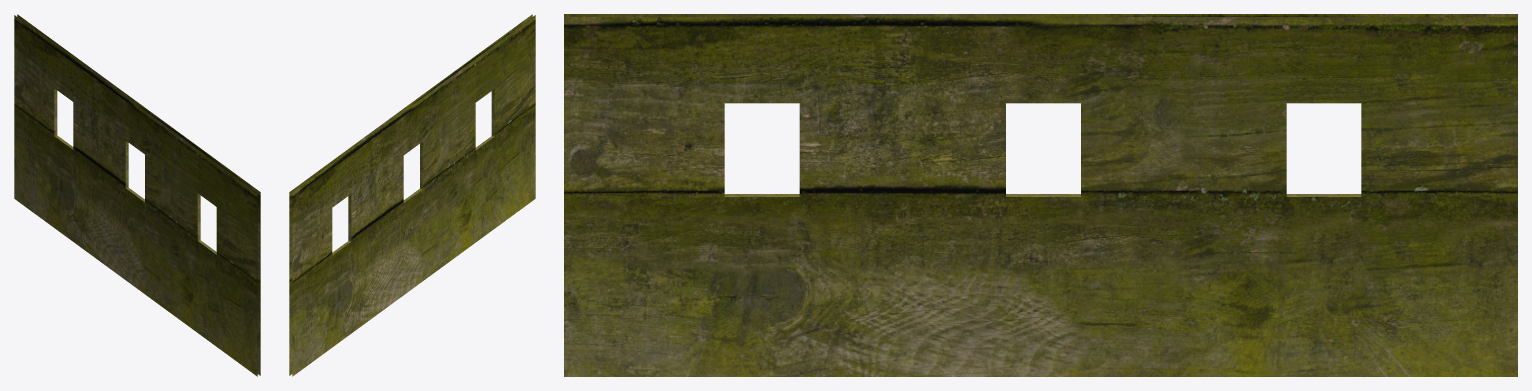
File: SM_Side_Wall.fbx
3 renders of one model, left to right at view 1: azimuth 30°, elevation 25°; view 2: azimuth 150°, elevation 25°; view 3: azimuth 270°, elevation 25°, orthographic. The views are drawn at different scales.
Parts seen in each view (by area): view 1: SM_Side_Wall; view 2: SM_Side_Wall; view 3: SM_Side_Wall.
Part boxes in pixels (left/top/right/bottom): SM_Side_Wall: left=14, top=14, right=260, bottom=376; SM_Side_Wall: left=289, top=14, right=535, bottom=376; SM_Side_Wall: left=564, top=14, right=1517, bottom=376.
Size of what is drawn, in the model's own units: 704 by 5 by 293.
